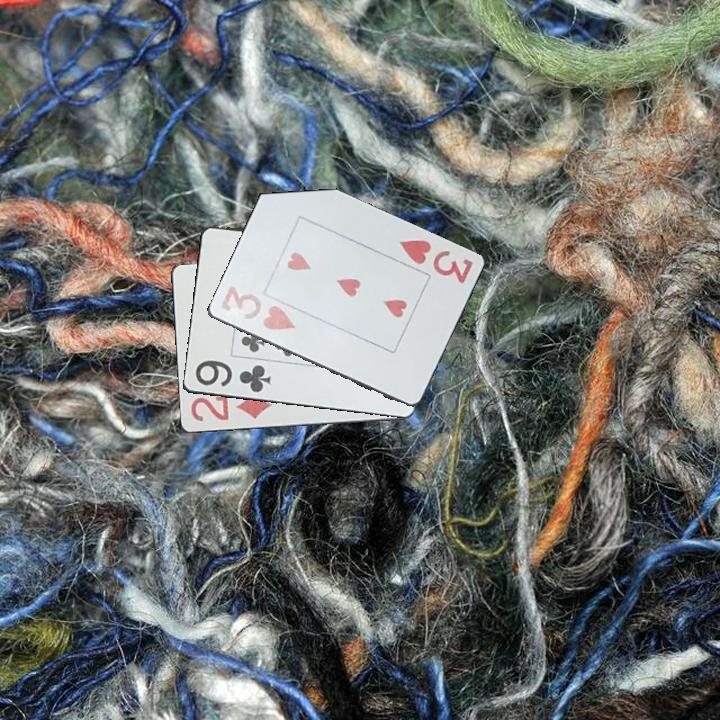2d: (187, 390, 275, 425)
3h: (217, 282, 298, 334), (395, 236, 476, 287)
9c: (191, 356, 274, 396)
